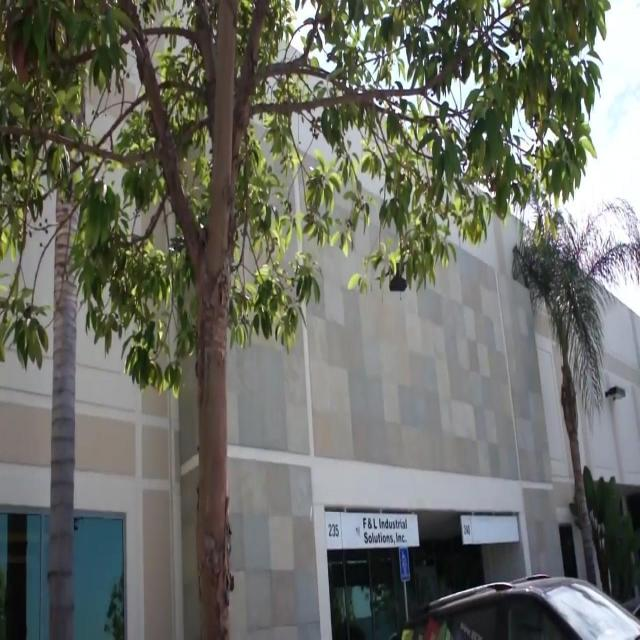UAV: (376, 262, 408, 292)
